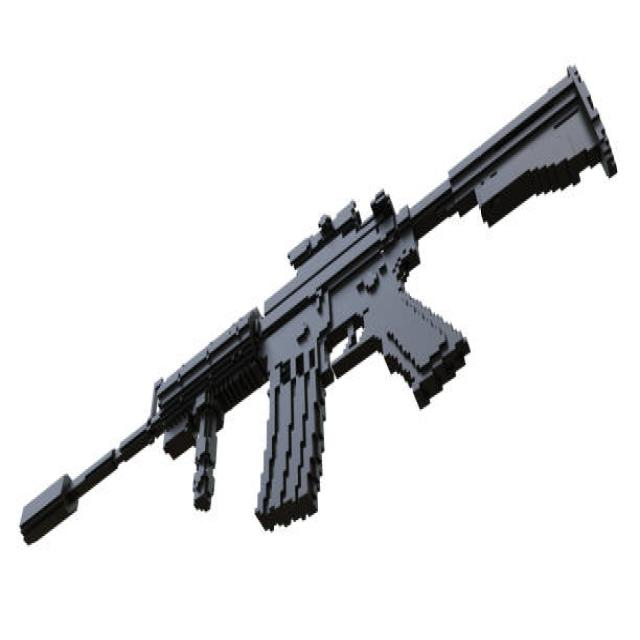rifle: (18, 57, 622, 563)
